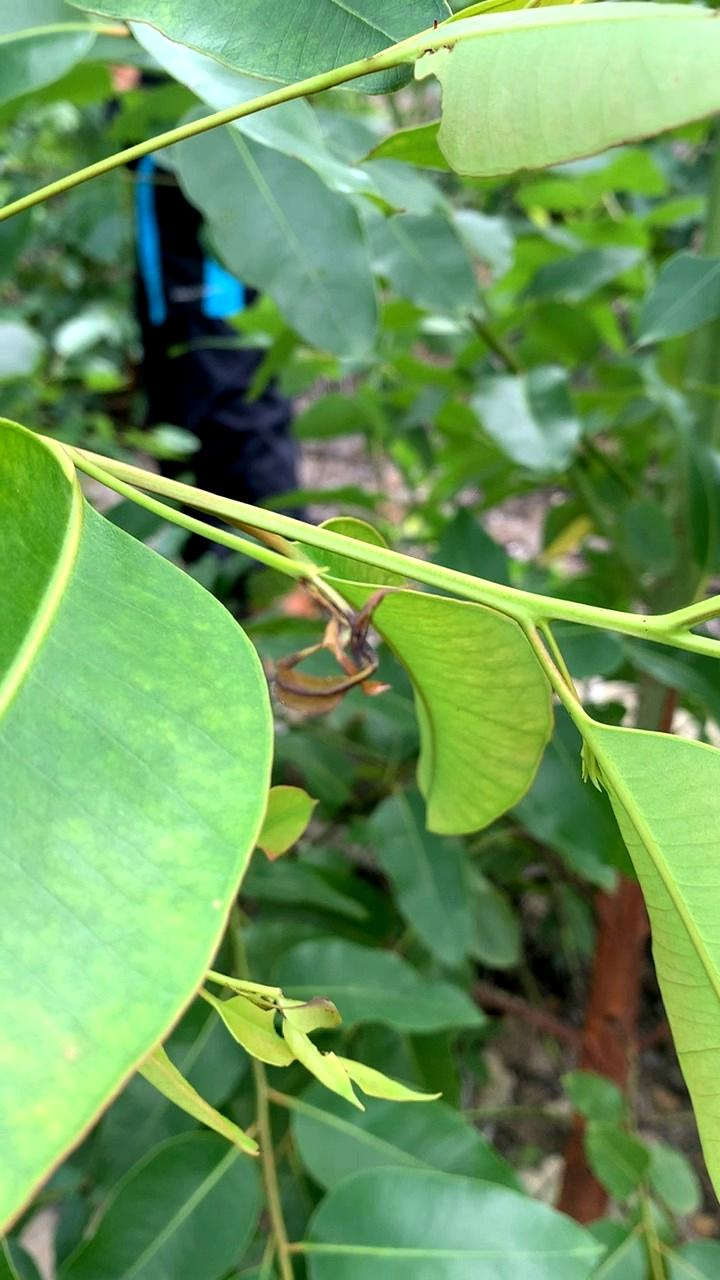Helopeltis-Withered Sprout: (256, 543, 403, 727)
